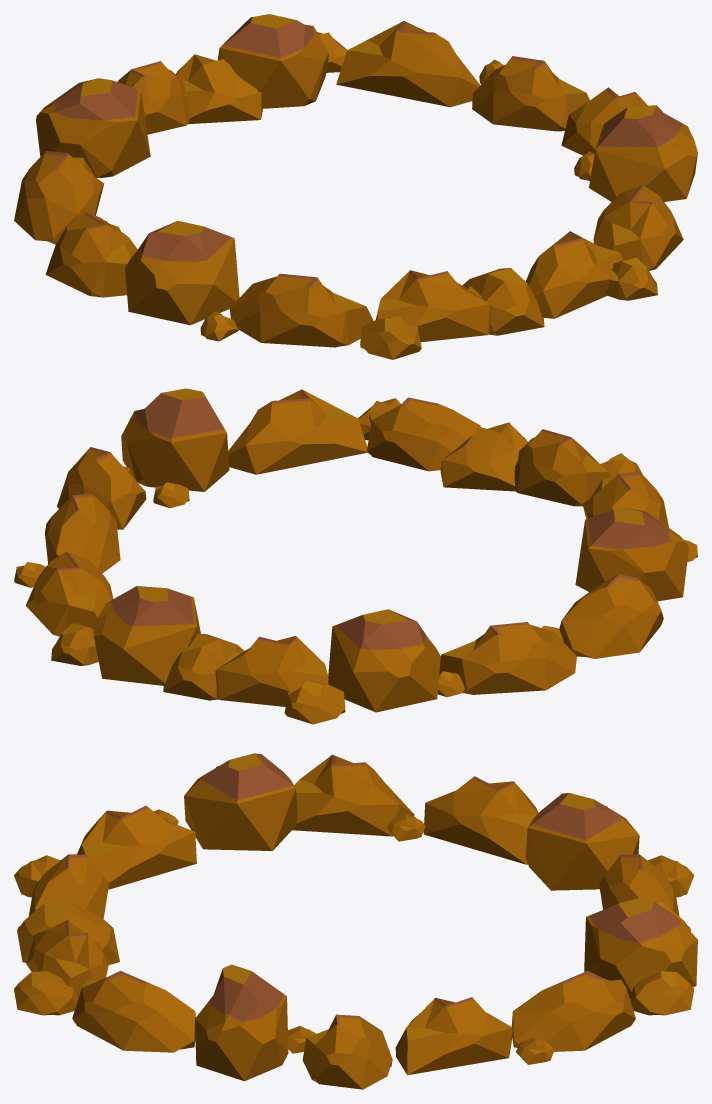
The model's file is stoneCircle.fbx.
3 views of the same model, one above another, from view 1: azimuth 30°, elevation 25°; view 2: azimuth 150°, elevation 25°; view 3: azimuth 270°, elevation 25° (orthographic).
Visible parts, largest first — view 1: cover2.024; view 2: cover2.024; view 3: cover2.024.
Part boxes in pixels (<box>): cover2.024: <box>14,14,697,359</box>; cover2.024: <box>14,388,697,724</box>; cover2.024: <box>14,753,697,1089</box>.
Size of the model in its own units: 1281 by 197 by 1277.
